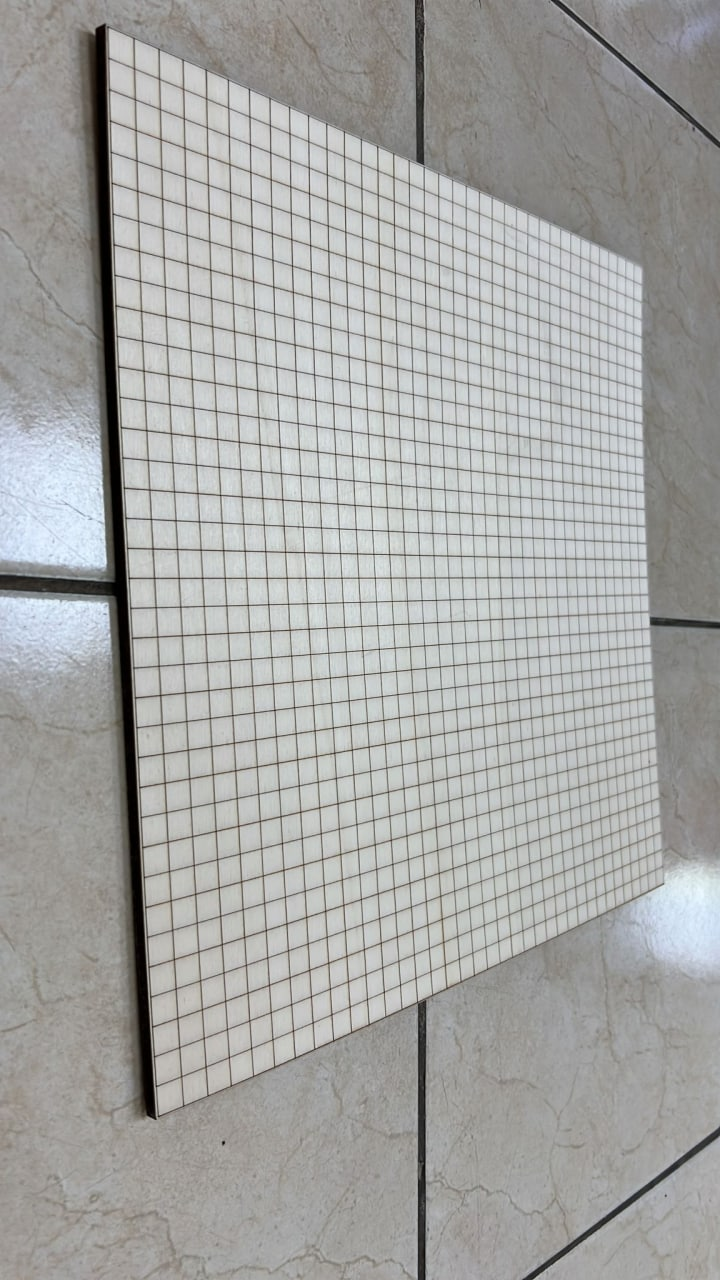grid: (86, 14, 675, 1138)
